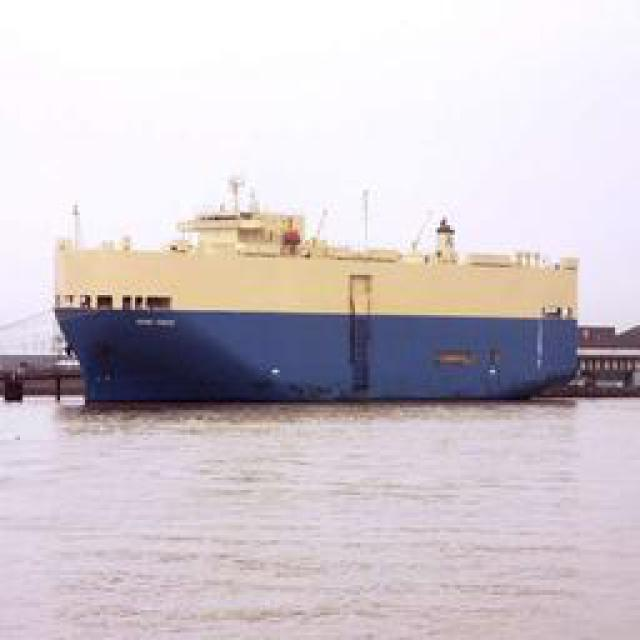Ship: (46, 211, 586, 409)
